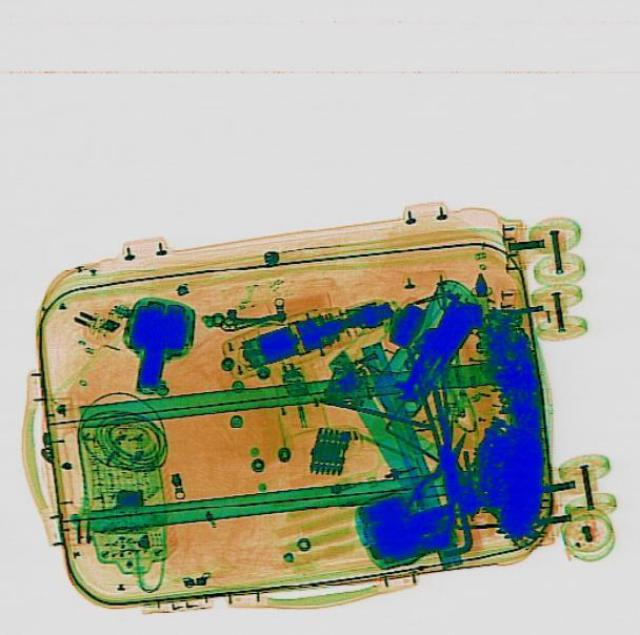Pliers: (406, 414, 488, 517)
